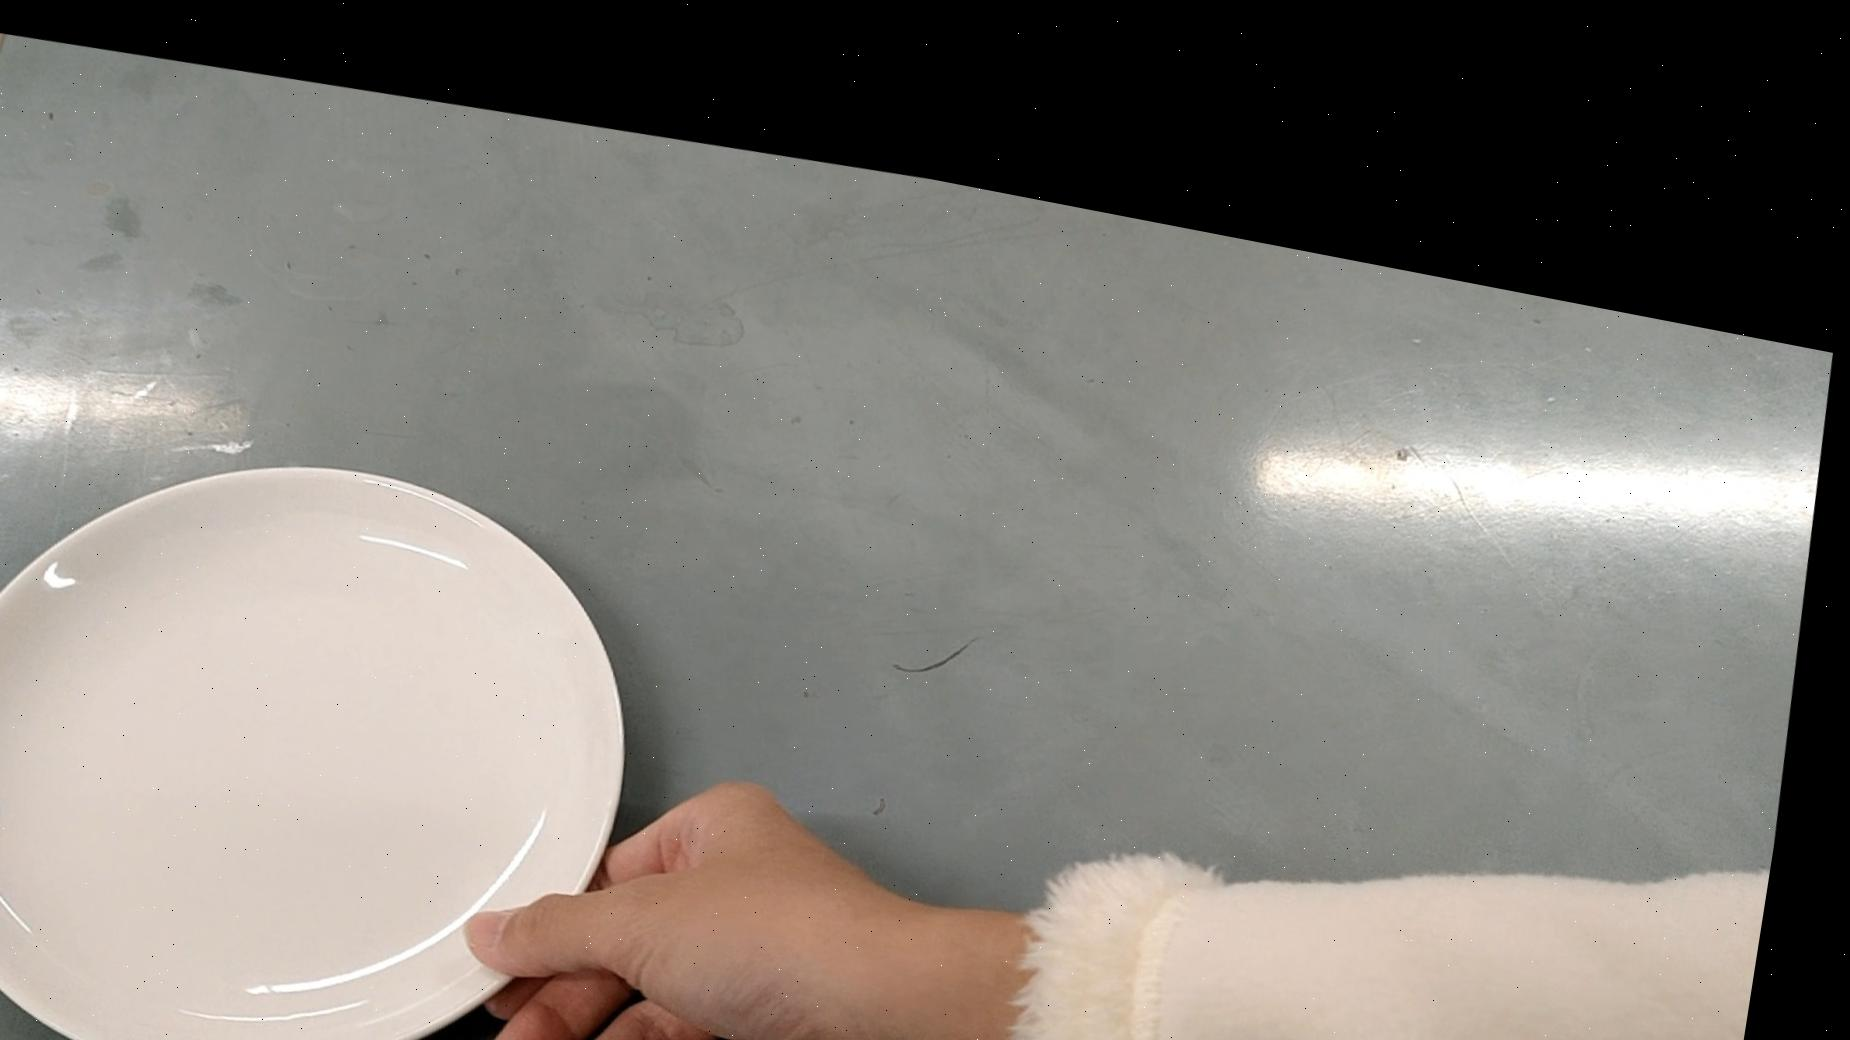plate: (0, 384, 690, 1040)
